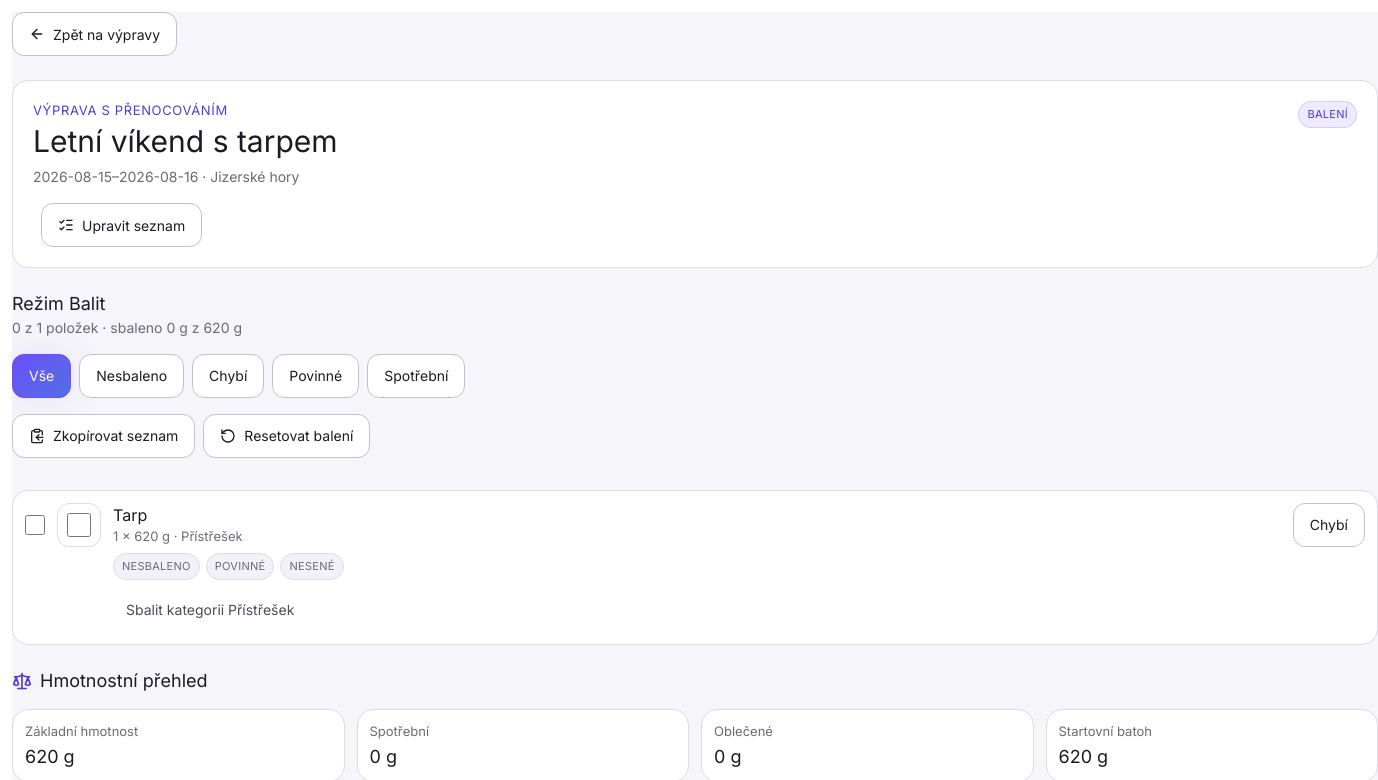
Test: expeditions UI › rolls an optimistic packing update back after an API failure
This screenshot has width=1378, height=780.
What coordinates should you click on to do the following:
click the 2nd checkbox named "Označit jako sbalené: Tarp"
I would click on:
 (79, 525)
Its box is [67,513,91,537].
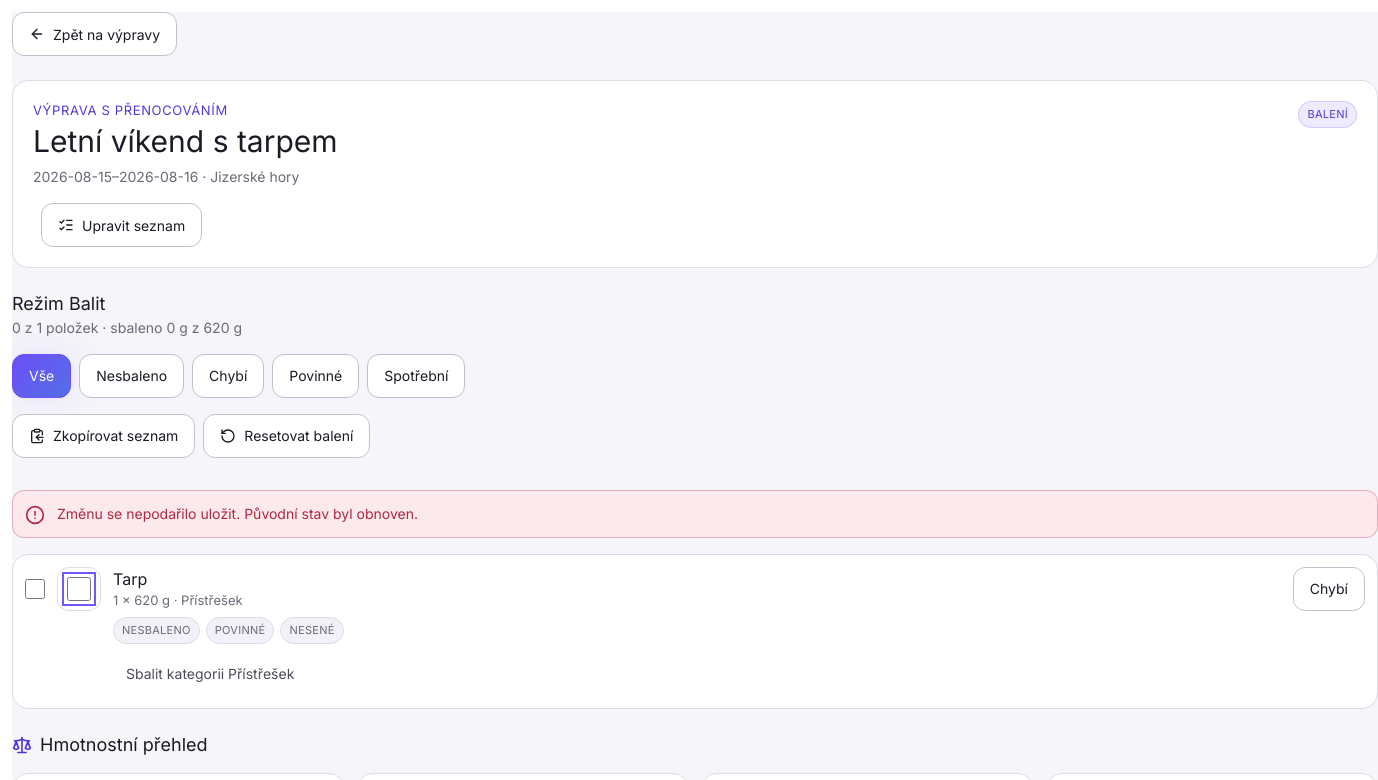
Expected: the 2nd checkbox named "Označit jako sbalené: Tarp" is not checked, [67,577,91,601]
Expected: the text "Změnu se nepodařilo uložit. Původní stav byl obnoven." is shown, [57,503,418,524]
